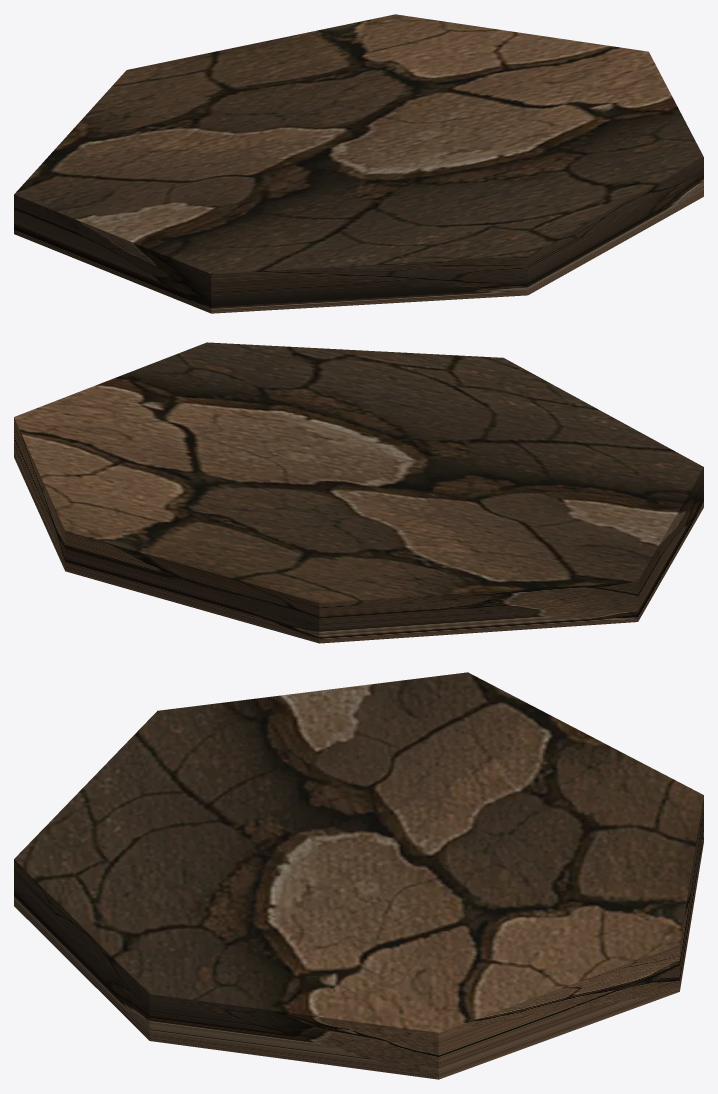
Rendered from toad-prop-crack-tile.glb.
The picture shows the model from 3 angles, top to bottom: view 1: azimuth 30°, elevation 25°; view 2: azimuth 150°, elevation 25°; view 3: azimuth 270°, elevation 25°; orthographic projection. The views are drawn at different scales.
Visible parts, largest first — view 1: tile; view 2: tile; view 3: tile.
Part boxes in pixels (x1,y1,x2,y2): tile: (14,14,703,313); tile: (14,342,703,643); tile: (14,672,703,1079).
Size of the model in its own units: 0.0989 by 0.006 by 0.08.
1 material, 1 textured.
